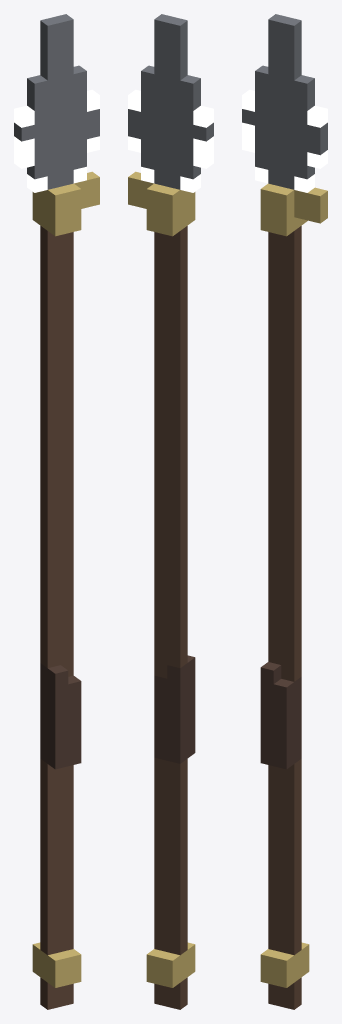
File: spear_epic_lod1.glb
3 renders of one model, left to right at view 1: azimuth 30°, elevation 25°; view 2: azimuth 150°, elevation 25°; view 3: azimuth 330°, elevation 25°, orthographic.
Parts seen in each view (by area): view 1: spear_epic_lod1; view 2: spear_epic_lod1; view 3: spear_epic_lod1.
Boxes of the visible parts, <box> form: spear_epic_lod1: <box>14,14,99,1009</box>; spear_epic_lod1: <box>128,14,213,1009</box>; spear_epic_lod1: <box>242,14,327,1009</box>.
Bounding box in the file's own units: 0.18 × 2.16 × 0.09.
